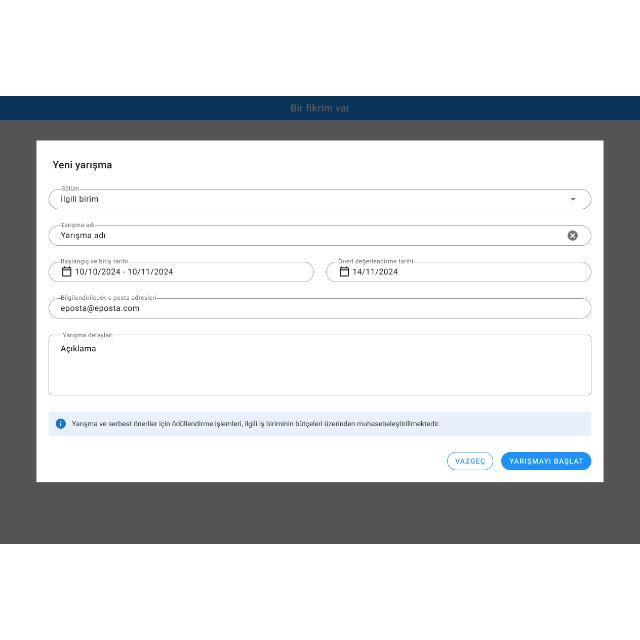QLabel: (70, 419, 440, 428), (49, 159, 112, 171), (508, 458, 584, 466), (454, 458, 486, 467)
VAlert: (47, 410, 591, 436)
VBtn: (502, 451, 592, 471), (447, 452, 493, 470)
VCombobox: (47, 186, 591, 210)
VDialog: (36, 141, 604, 483)
VIcon: (56, 418, 66, 429)
VInlineDatepicker: (326, 258, 592, 284), (49, 258, 314, 284)
VTextField: (49, 294, 592, 320), (49, 223, 591, 247)
VTextarea: (48, 334, 592, 396)
